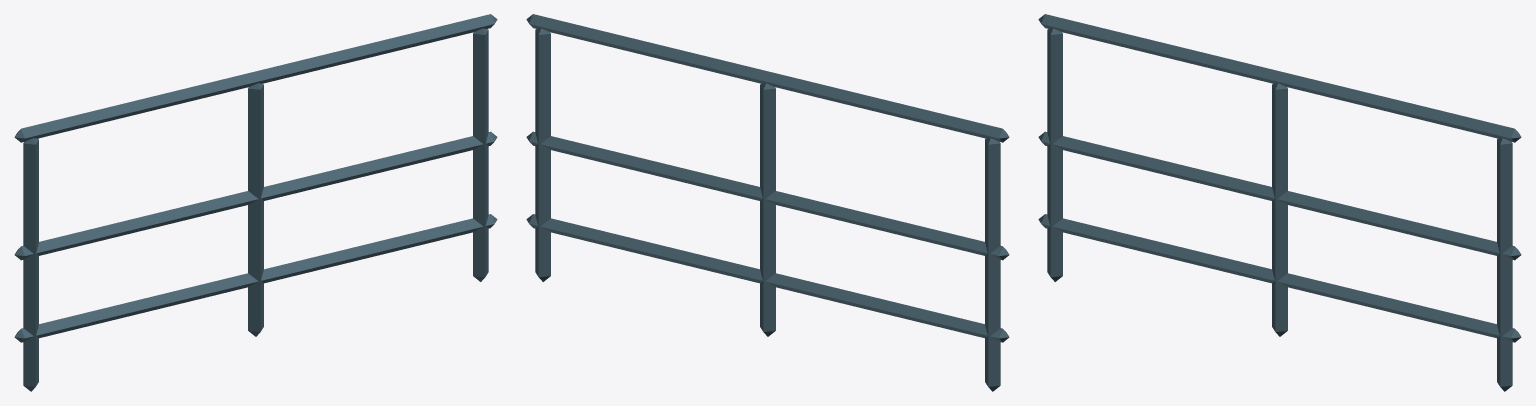
Rendered from metal-railing.glb.
The picture shows the model from 3 angles, left to right: view 1: azimuth 30°, elevation 25°; view 2: azimuth 150°, elevation 25°; view 3: azimuth 330°, elevation 25°; orthographic projection.
Visible parts, largest first — view 1: rail-horizontal.002, rail-horizontal, rail-horizontal.001, rail-post.002, rail-post, rail-post.001; view 2: rail-horizontal.002, rail-horizontal, rail-horizontal.001, rail-post.002, rail-post, rail-post.001; view 3: rail-horizontal.002, rail-horizontal, rail-horizontal.001, rail-post, rail-post.002, rail-post.001.
Part boxes in pixels (bbox=[...]): rail-horizontal.002: bbox=[14, 14, 497, 142]; rail-horizontal: bbox=[14, 214, 497, 342]; rail-horizontal.001: bbox=[14, 131, 497, 260]; rail-post.002: bbox=[473, 28, 488, 281]; rail-post: bbox=[23, 138, 38, 391]; rail-post.001: bbox=[248, 83, 263, 336]; rail-horizontal.002: bbox=[526, 14, 1009, 142]; rail-horizontal: bbox=[526, 214, 1009, 342]; rail-horizontal.001: bbox=[526, 131, 1009, 260]; rail-post.002: bbox=[535, 28, 550, 281]; rail-post: bbox=[985, 138, 1000, 391]; rail-post.001: bbox=[760, 83, 775, 336]; rail-horizontal.002: bbox=[1038, 14, 1521, 142]; rail-horizontal: bbox=[1038, 214, 1521, 342]; rail-horizontal.001: bbox=[1038, 131, 1521, 260]; rail-post: bbox=[1047, 28, 1062, 281]; rail-post.002: bbox=[1497, 138, 1512, 391]; rail-post.001: bbox=[1272, 83, 1287, 336].
Size of the model in its own units: 2.15 by 1.13 by 0.07.
